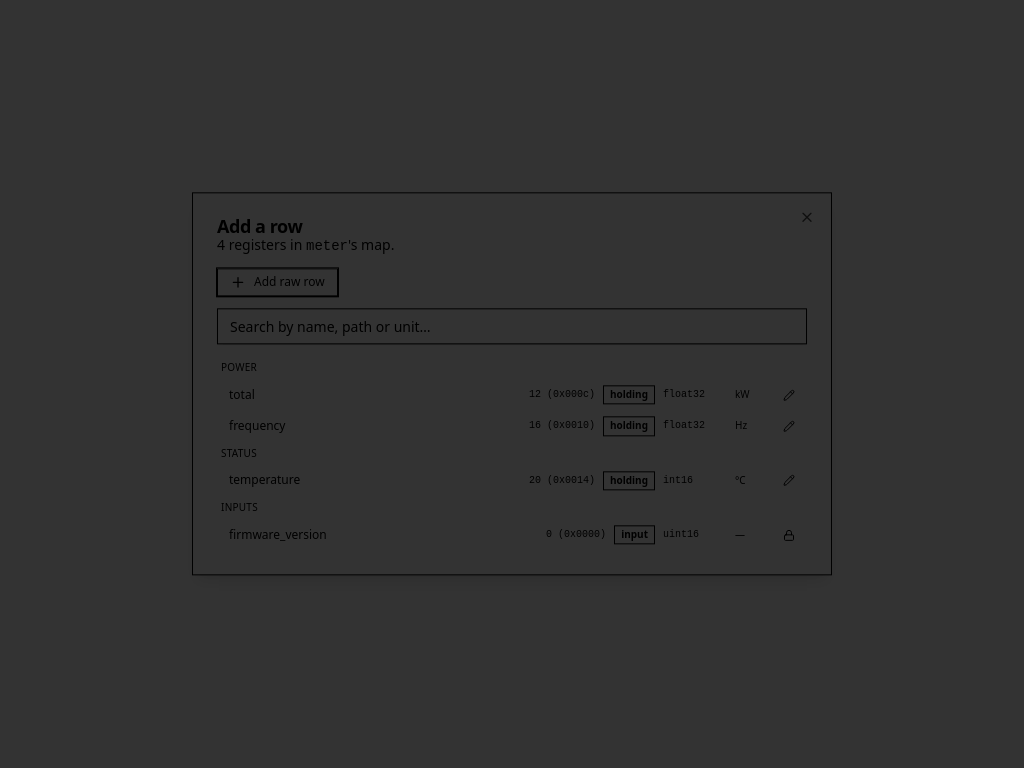
Test case: AddRegisterDialog › filters by unit
Type "hz" into the field named "Search registers" at {"x": 512, "y": 326}, box [217, 308, 807, 344]
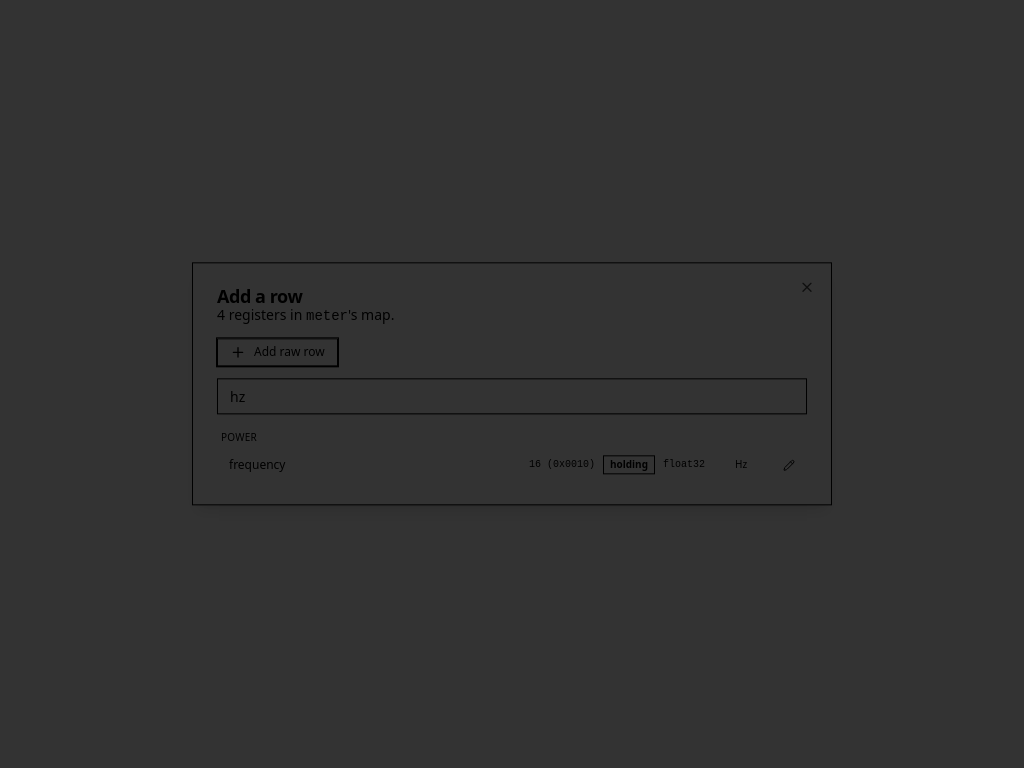
Expected: the text "frequency" is shown, [229, 456, 286, 473]
Now the button "total" is gone
